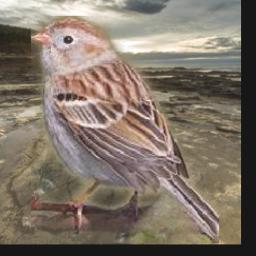Sparrow: (30, 16, 218, 243)
